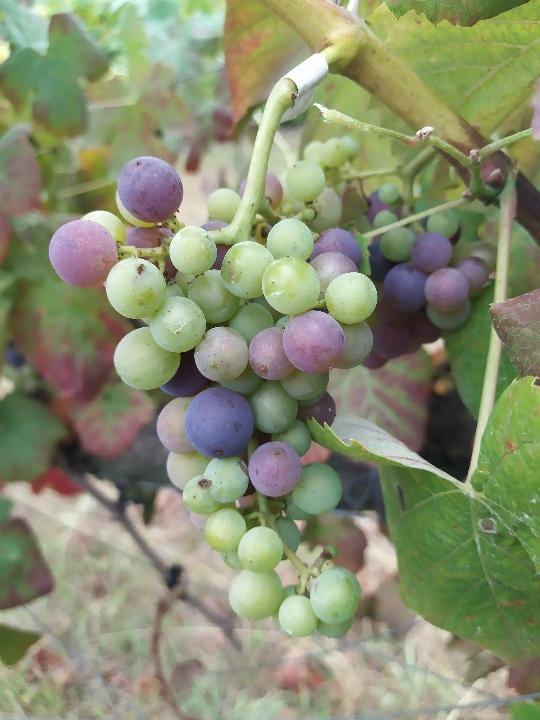grape: (47, 153, 381, 641)
